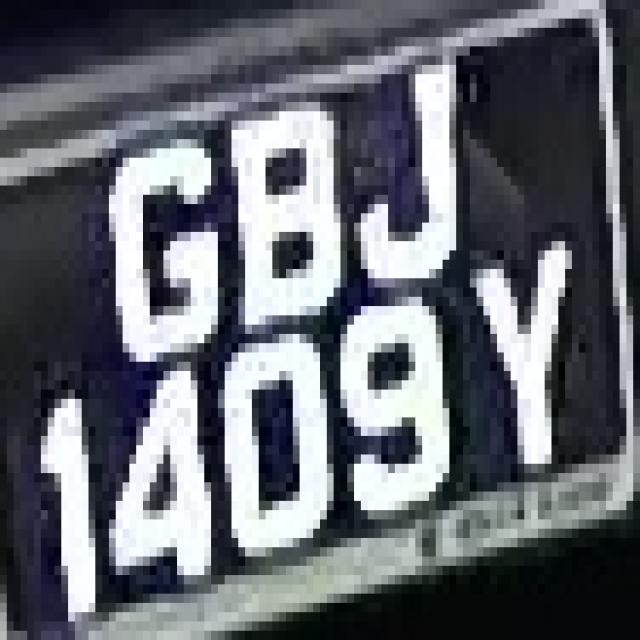0: (198, 297, 348, 566)
1: (41, 352, 109, 631)
4: (102, 343, 218, 594)
9: (313, 260, 456, 528)
B: (197, 93, 354, 343)
G: (82, 93, 211, 380)
J: (341, 28, 476, 315)
Y: (463, 213, 579, 492)
